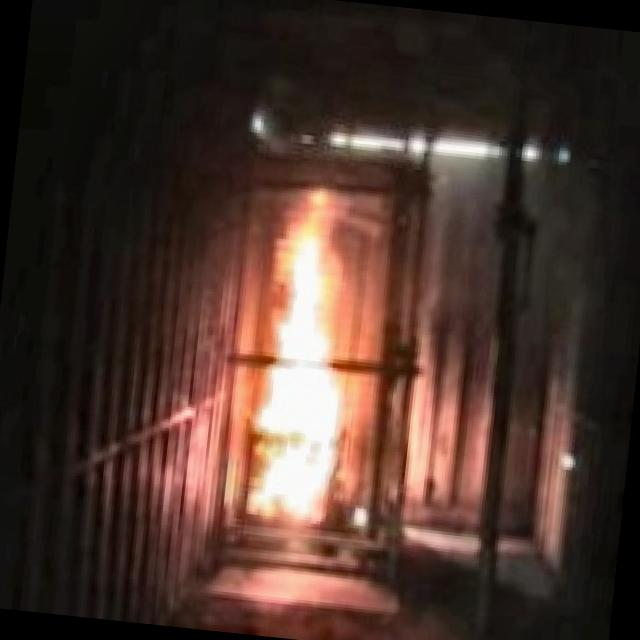fire: (229, 205, 366, 514)
